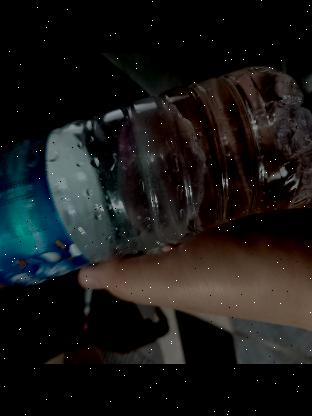Plastic Bottle: (0, 52, 312, 315)
